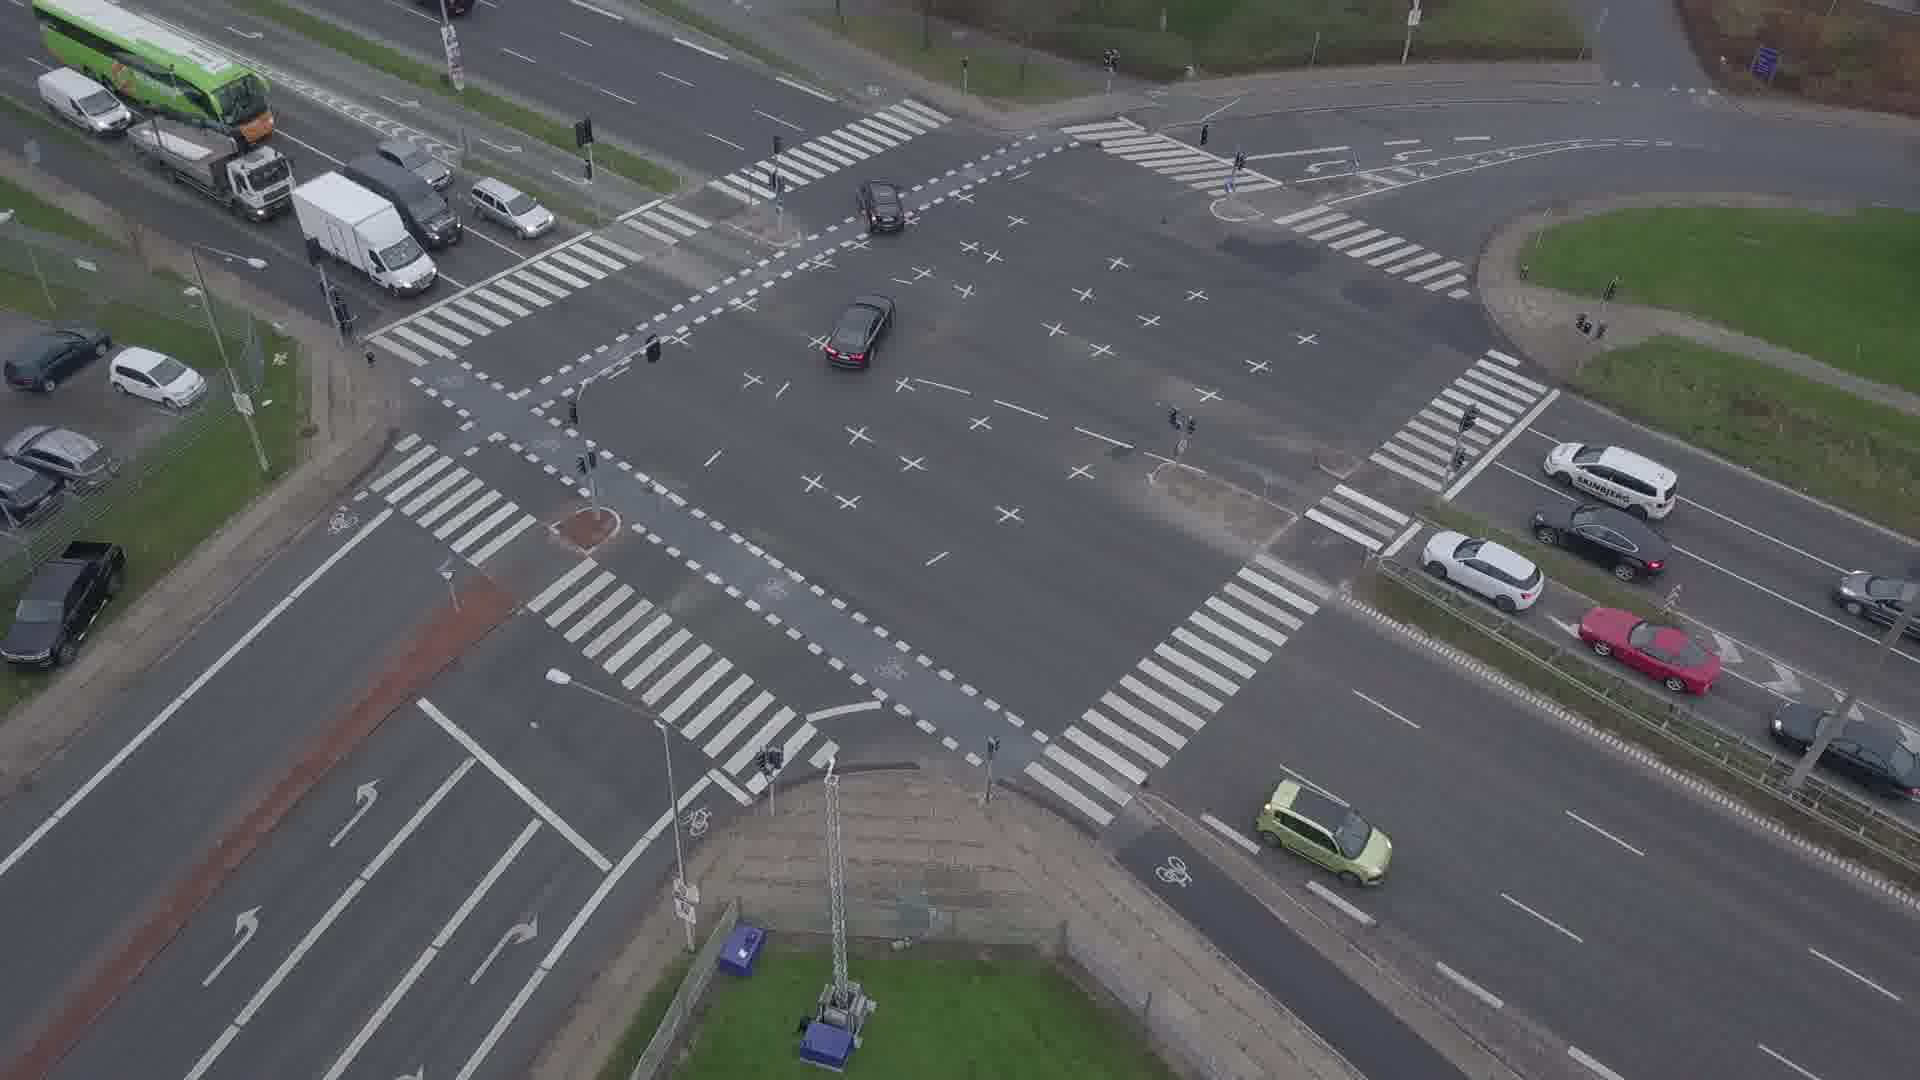bicycle: (332, 299, 363, 342)
bus: (23, 0, 274, 143)
car: (1768, 704, 1920, 800), (1258, 780, 1393, 888), (1578, 606, 1722, 696), (1532, 499, 1672, 583), (1542, 442, 1681, 520), (1422, 532, 1545, 613), (1834, 569, 1920, 649), (824, 292, 900, 368), (468, 177, 556, 242), (372, 137, 455, 192), (864, 177, 905, 236)
lorry: (125, 101, 297, 224), (289, 170, 439, 297), (344, 154, 463, 252), (37, 67, 132, 138)
